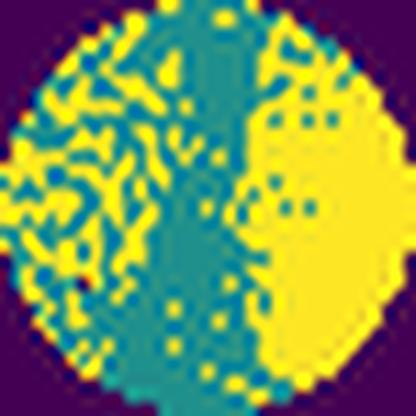Edge-Loc: (222, 15, 416, 393), (31, 72, 128, 129), (2, 123, 70, 189), (0, 189, 79, 229)
